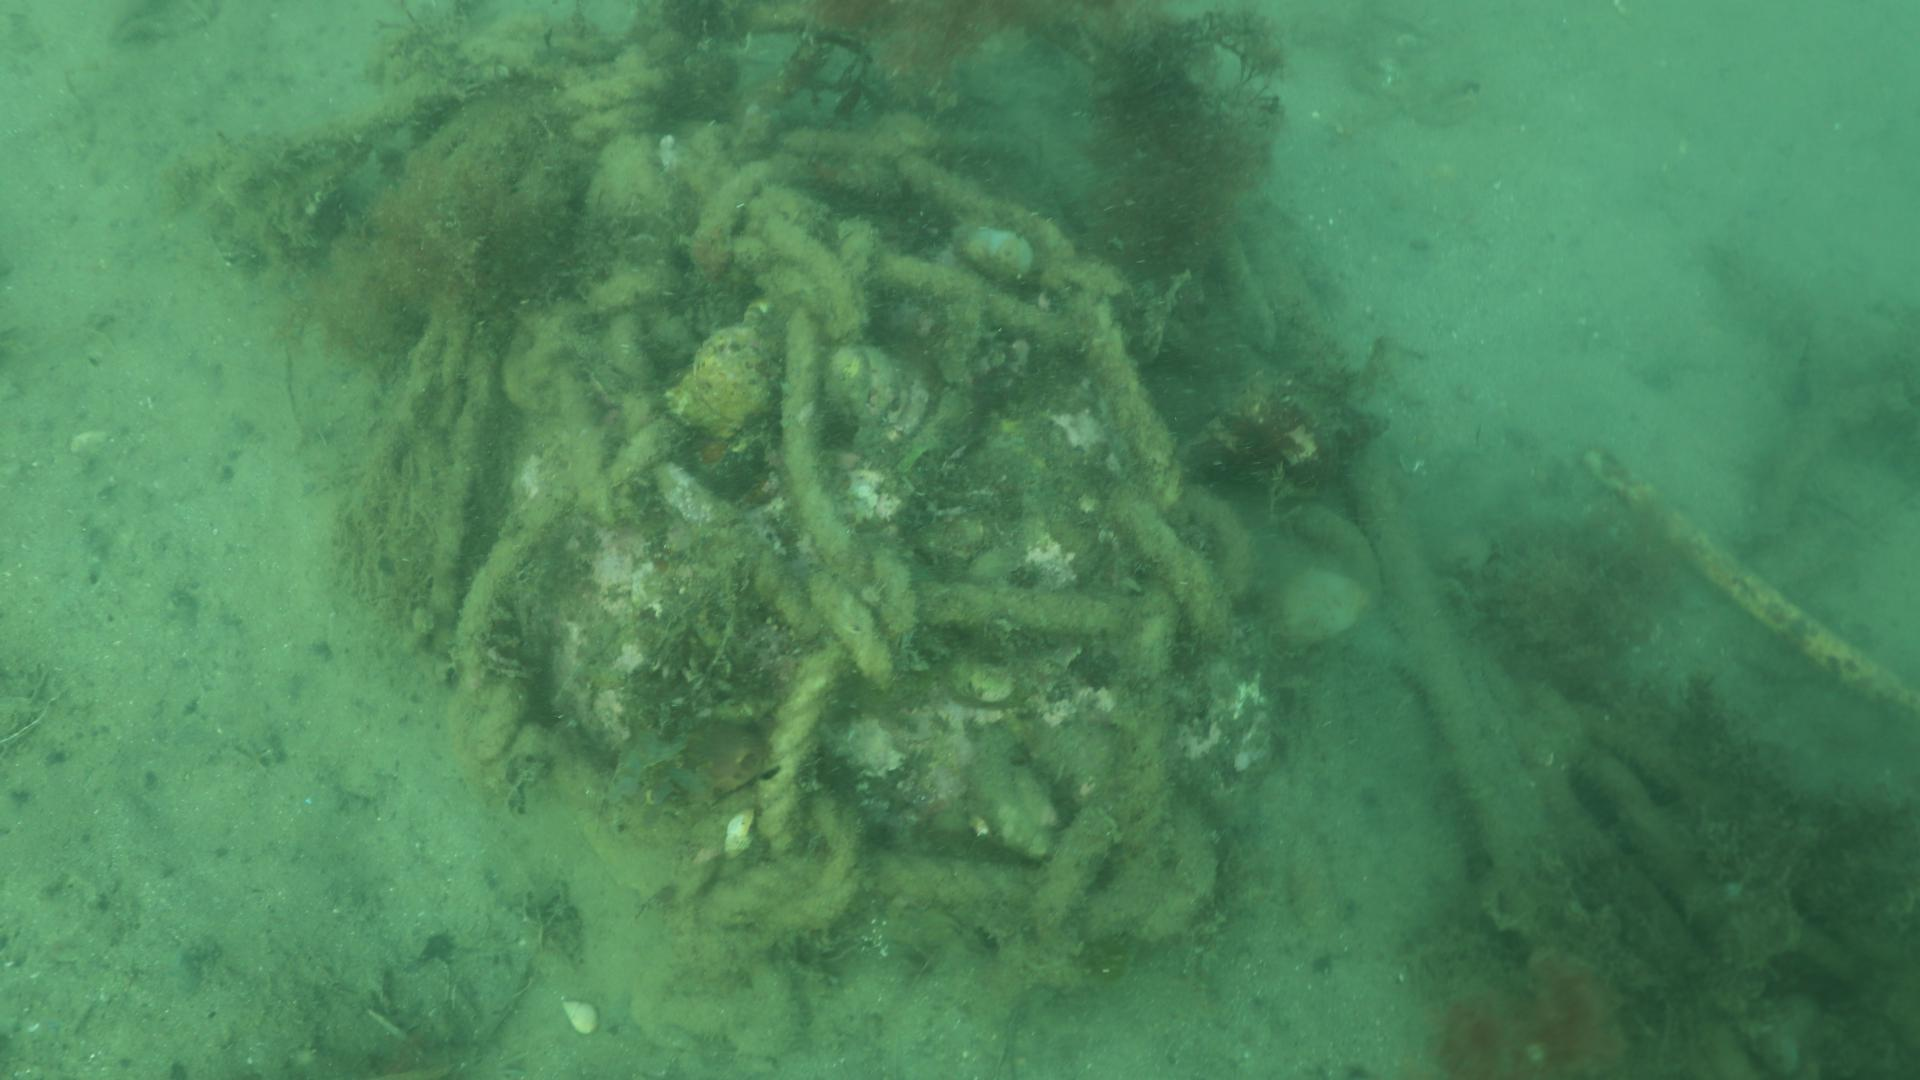bundle of ropes: (456, 33, 1238, 931)
